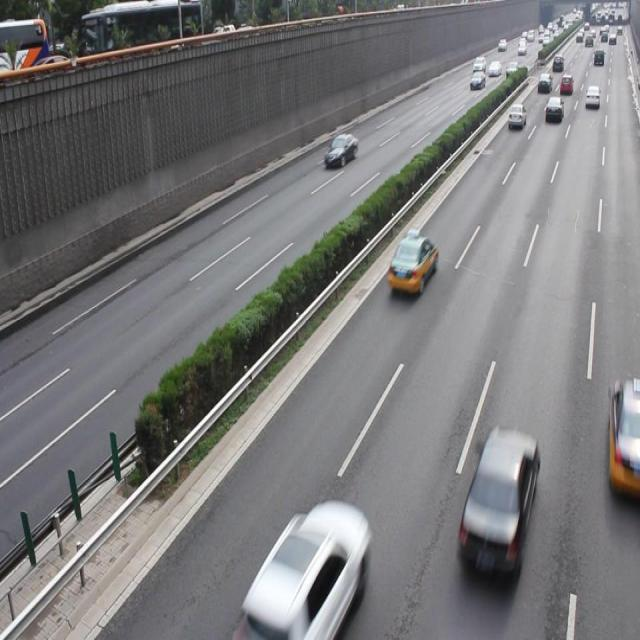car: (253, 501, 367, 640), (456, 424, 538, 582), (605, 378, 640, 504), (387, 233, 437, 296), (322, 130, 357, 170)
